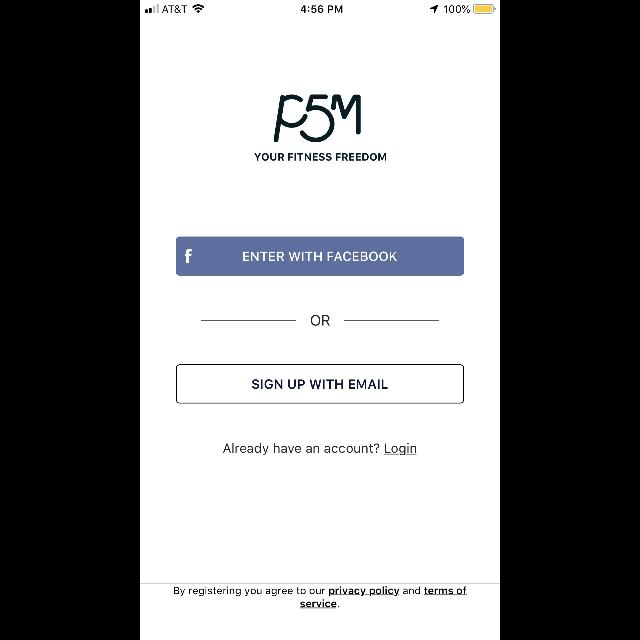image: (274, 95, 362, 143)
text: (175, 586, 468, 608), (224, 442, 416, 456), (255, 153, 387, 161), (310, 314, 330, 326)
textbutton: (176, 364, 464, 404), (176, 237, 464, 276)
uppertaskbar: (140, 0, 500, 14)
